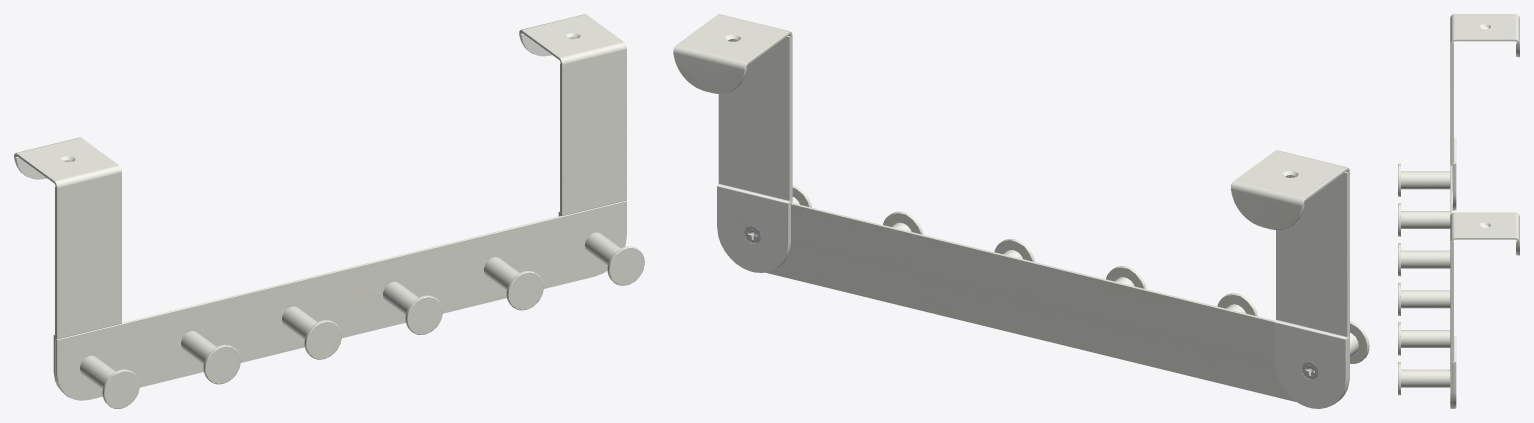
File: enudden_wieszak_na_drzwi_60251665.glb
3 views of the same model, side by side, from view 1: azimuth 30°, elevation 25°; view 2: azimuth 150°, elevation 25°; view 3: azimuth 270°, elevation 25° (orthographic). The views are drawn at different scales.
Parts seen in each view (by area): view 1: enudden_wieszak_na_drzwi_60251665; view 2: enudden_wieszak_na_drzwi_60251665; view 3: enudden_wieszak_na_drzwi_60251665.
Part boxes in pixels (box(x1,y1,x2,y2)): enudden_wieszak_na_drzwi_60251665: box(14, 14, 644, 408); enudden_wieszak_na_drzwi_60251665: box(673, 14, 1369, 408); enudden_wieszak_na_drzwi_60251665: box(1398, 14, 1519, 408).
Bounding box in the file's own units: 0.35 × 0.132 × 0.0805.
1 material, 1 textured.
